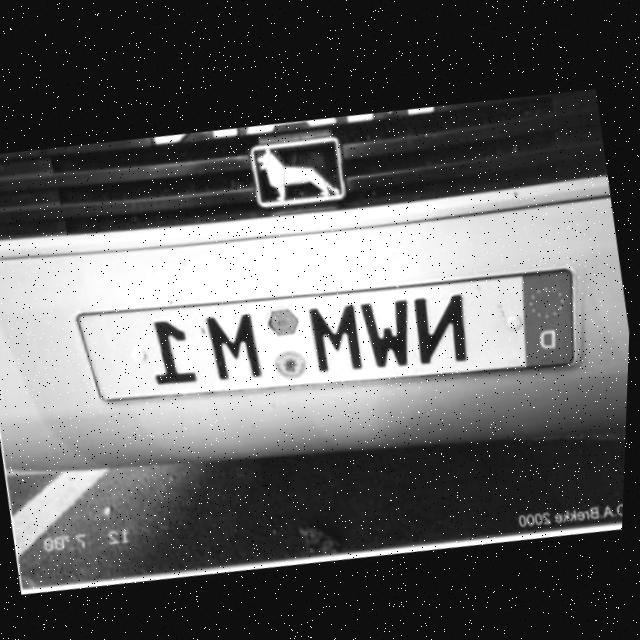license-plates: (76, 269, 576, 401)
